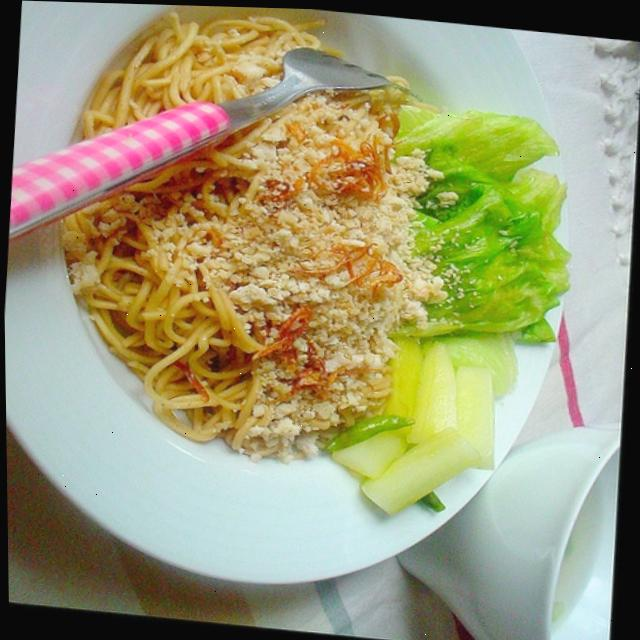面条主食: (0, 0, 581, 581)
